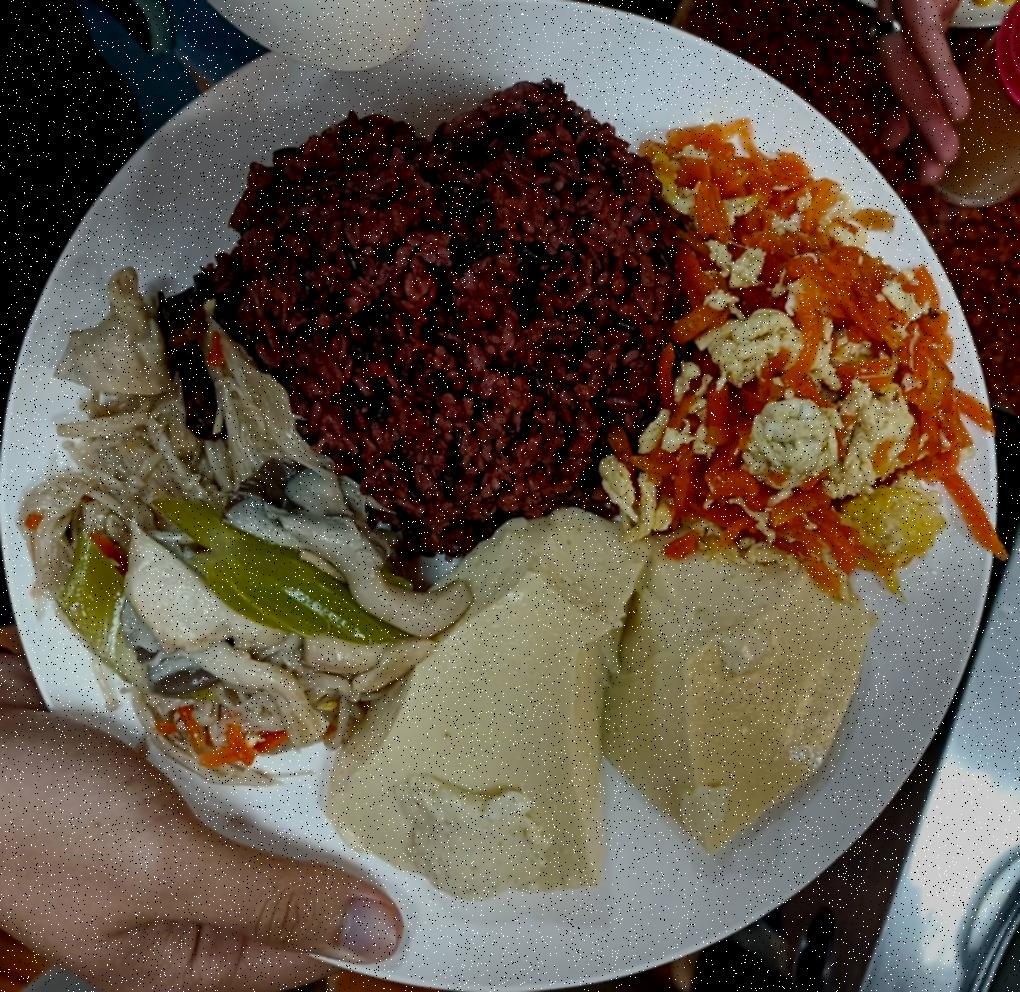big fried chicken leg: (0, 2, 1002, 992)
braised fish: (211, 82, 678, 550)
braised fish fillet: (317, 496, 870, 897), (39, 281, 467, 786), (603, 118, 994, 590)
